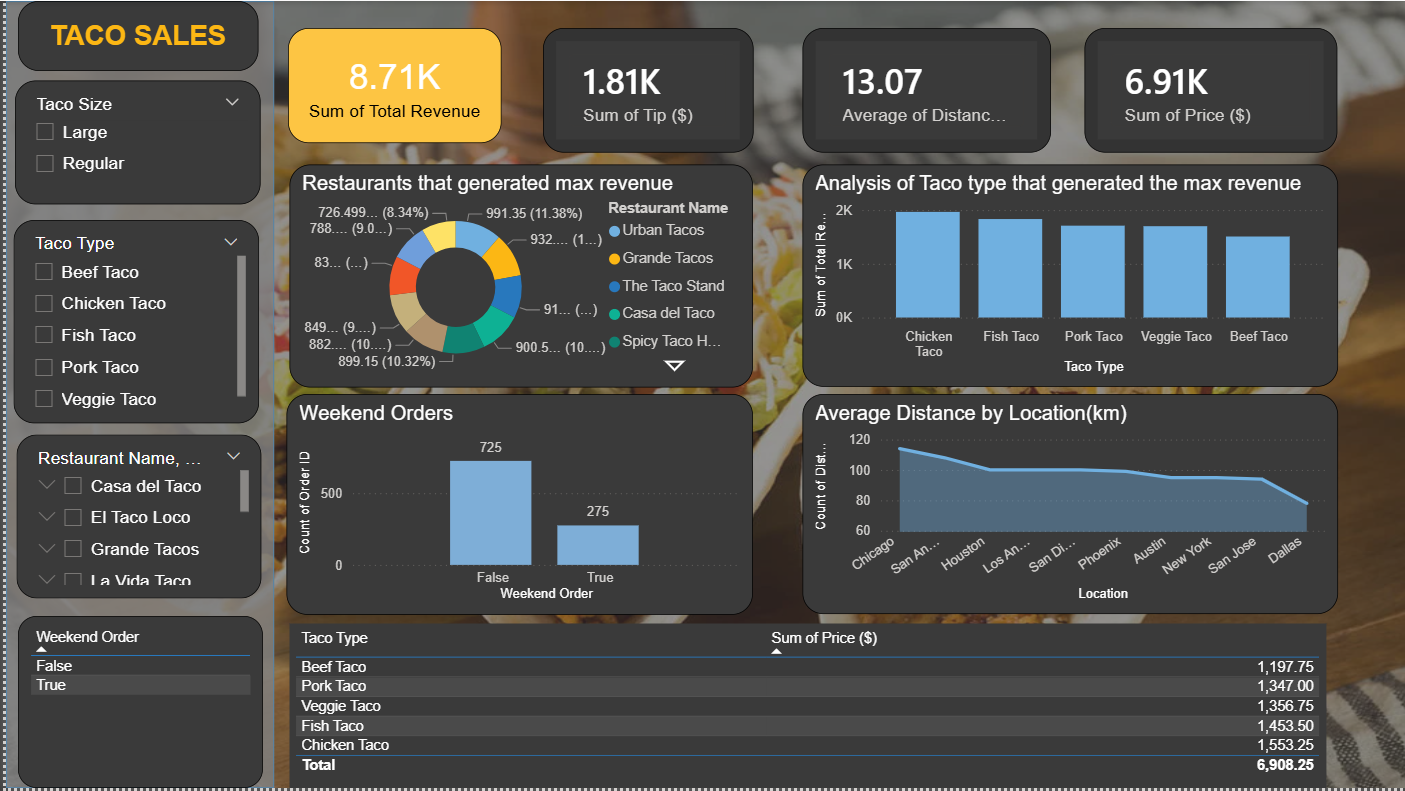

The page's visual inventory and layout, read from the dashboard file:
{"tool":"powerbi","page":{"name":"Analysis","canvas":[1280,720],"ordinal":1},"visuals":[{"type":"cardVisual","fields":{"Data":["Sum(taco_sales_(2024-2025).Tip ($))"]},"box":[491.4,24.3,192.9,114.3],"z":0},{"type":"stackedAreaChart","title":"Average Distance by Location(km)","fields":{"Category":["taco_sales_(2024-2025).Location"],"Y":["Count(taco_sales_(2024-2025).Distance (km))"]},"box":[728.6,360,490,201.4],"z":1000},{"type":"cardVisual","fields":{"Data":["Sum(taco_sales_(2024-2025).Price ($))"]},"box":[987.1,24.3,231.4,114.3],"z":2000},{"type":"cardVisual","fields":{"Data":["Avg(taco_sales_(2024-2025).Distance (km))"]},"box":[728.6,24.3,227.1,114.3],"z":3000},{"type":"donutChart","title":"Restaurants that generated max revenue","fields":{"Category":["taco_sales_(2024-2025).Restaurant Name"],"Y":["Sum(taco_sales_(2024-2025).Total Revenue)"]},"box":[259.2,150,423.8,203.8],"z":4000},{"type":"lineStackedColumnComboChart","title":"Analysis of Taco type that generated the max revenue","fields":{"Category":["taco_sales_(2024-2025).Taco Type"],"Y":["Sum(taco_sales_(2024-2025).Total Revenue)"]},"box":[728.3,150,490,203.3],"z":5000},{"type":"shape","title":"side panal","box":[0,0,245.4,720.2],"z":6000},{"type":"slicer","fields":{"Values":["taco_sales_(2024-2025).Taco Type"]},"box":[6.5,200.2,224.5,185.7],"z":7000},{"type":"slicer","fields":{"Values":["taco_sales_(2024-2025).Taco Size"]},"box":[8.1,72.7,224.5,113],"z":8000},{"type":"tableEx","fields":{"Values":["taco_sales_(2024-2025).Weekend Order"]},"box":[11.4,562.9,224.3,157.1],"z":9000},{"type":"slicer","fields":{"Values":["taco_sales_(2024-2025).Restaurant Name","taco_sales_(2024-2025).Order Time"]},"box":[10,397.1,224.3,150],"z":10000},{"type":"textbox","box":[258.4,84,69.4,54.9],"z":11000},{"type":"clusteredColumnChart","title":"Weekend Orders","fields":{"Category":["taco_sales_(2024-2025).Weekend Order"],"Y":["Count(taco_sales_(2024-2025).Order ID)"]},"box":[256.7,360,426.7,201.7],"z":12000},{"type":"card","fields":{"Values":["Sum(taco_sales_(2024-2025).Total Revenue)"]},"box":[258.3,24.2,195,105],"z":13000},{"type":"tableEx","fields":{"Values":["select","taco_sales_(2024-2025).Taco Type","Sum(taco_sales_(2024-2025).Price ($))"]},"box":[259.2,569.2,948.5,150.8],"z":14000},{"type":"actionButton","box":[11.4,0,220,64.3],"z":15000}]}

Visuals, with their boxes in screenshot pixels (x1, y1, x2, y2), scaled from the page's 1280x720 canvas onto the 1405x791 screenshot:
cardVisual - Sum(taco_sales_(2024-2025).Tip ($)): <box>539,27,751,152</box>
"Average Distance by Location(km)" stackedAreaChart: <box>800,396,1338,617</box>
cardVisual - Sum(taco_sales_(2024-2025).Price ($)): <box>1083,27,1337,152</box>
cardVisual - Avg(taco_sales_(2024-2025).Distance (km)): <box>800,27,1049,152</box>
"Restaurants that generated max revenue" donutChart: <box>285,165,750,389</box>
"Analysis of Taco type that generated the max revenue" lineStackedColumnComboChart: <box>799,165,1337,388</box>
"side panal" shape: <box>0,0,269,790</box>
slicer - taco_sales_(2024-2025).Taco Type: <box>7,220,254,424</box>
slicer - taco_sales_(2024-2025).Taco Size: <box>9,80,255,204</box>
tableEx - taco_sales_(2024-2025).Weekend Order: <box>13,618,259,790</box>
slicer - taco_sales_(2024-2025).Restaurant Name x taco_sales_(2024-2025).Order Time: <box>11,436,257,601</box>
textbox: <box>284,92,360,153</box>
"Weekend Orders" clusteredColumnChart: <box>282,396,750,617</box>
card - Sum(taco_sales_(2024-2025).Total Revenue): <box>284,27,498,142</box>
tableEx - select x taco_sales_(2024-2025).Taco Type: <box>285,625,1326,790</box>
actionButton: <box>13,0,254,71</box>
